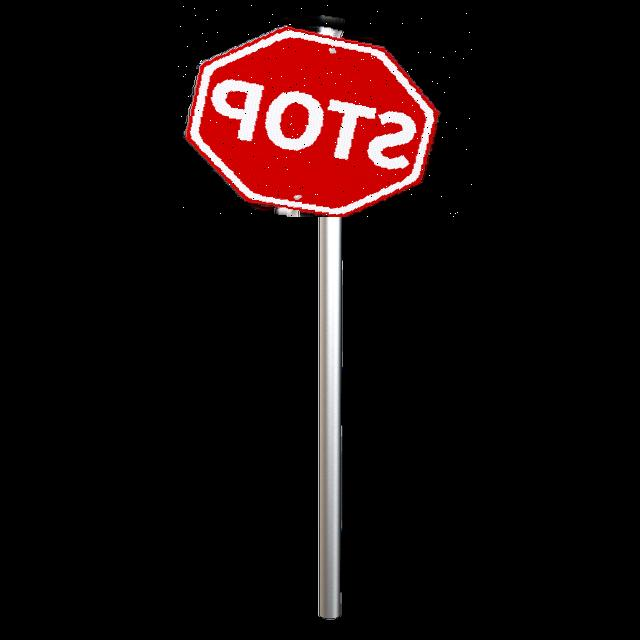stop: (178, 5, 472, 217)
